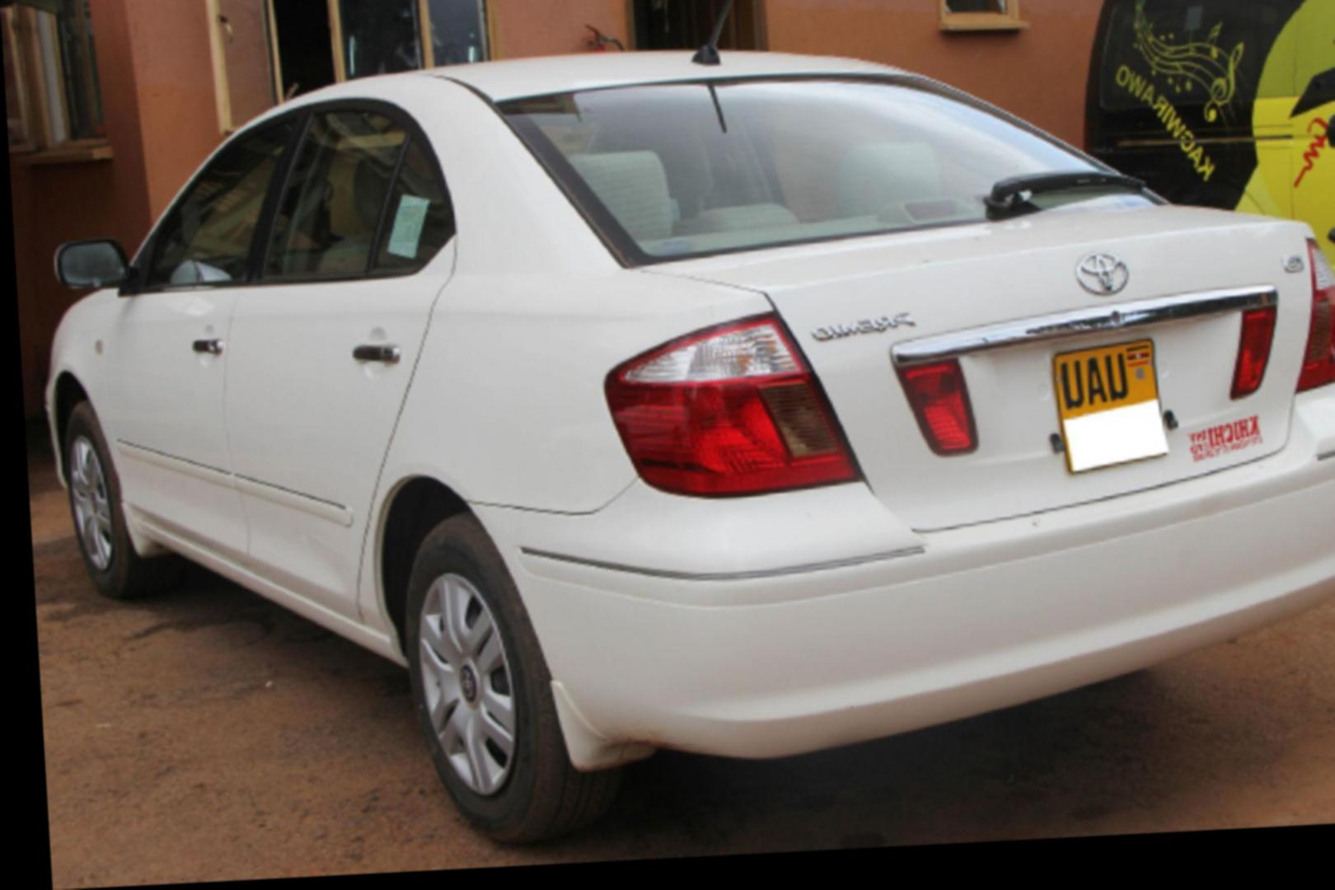License_Plate: (1051, 330, 1176, 480)
